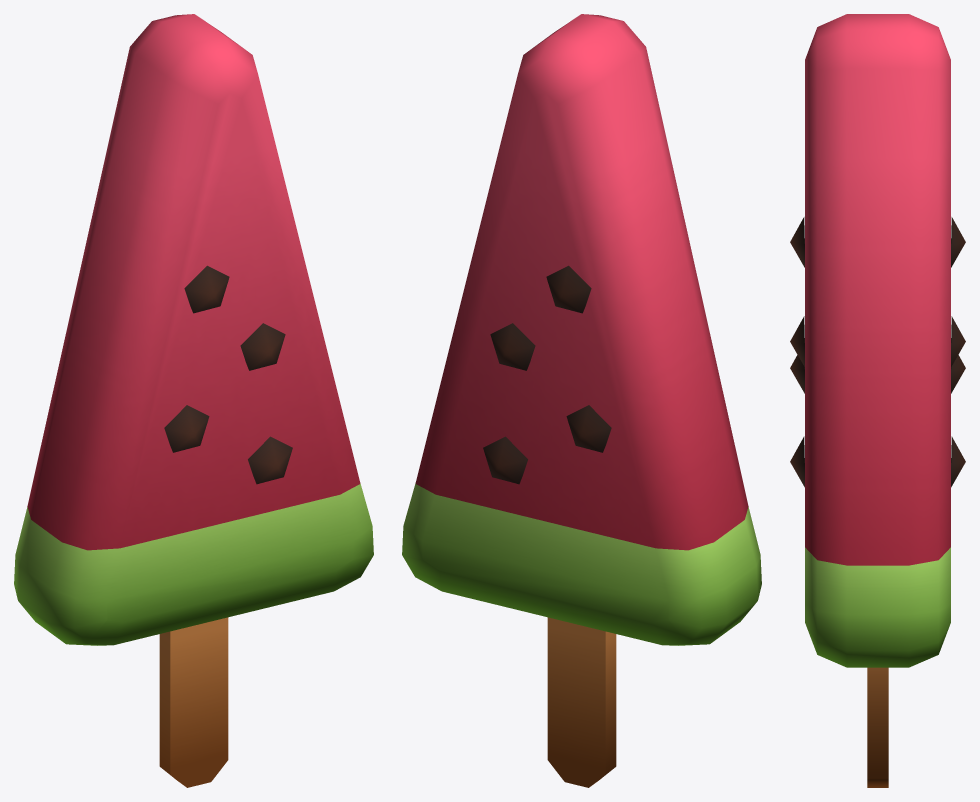
File: m_MelonPopsicle01.fbx
3 views of the same model, side by side, from view 1: azimuth 30°, elevation 25°; view 2: azimuth 150°, elevation 25°; view 3: azimuth 270°, elevation 25° (orthographic).
Visible parts, largest first — view 1: m_MelonPopsicle01; view 2: m_MelonPopsicle01; view 3: m_MelonPopsicle01.
Boxes of the visible parts, left/top/right/bottom form: m_MelonPopsicle01: left=14, top=14, right=373, bottom=787; m_MelonPopsicle01: left=402, top=14, right=761, bottom=787; m_MelonPopsicle01: left=790, top=14, right=965, bottom=787.
Size of the model in its own units: 10.27 by 22.98 by 4.82.
